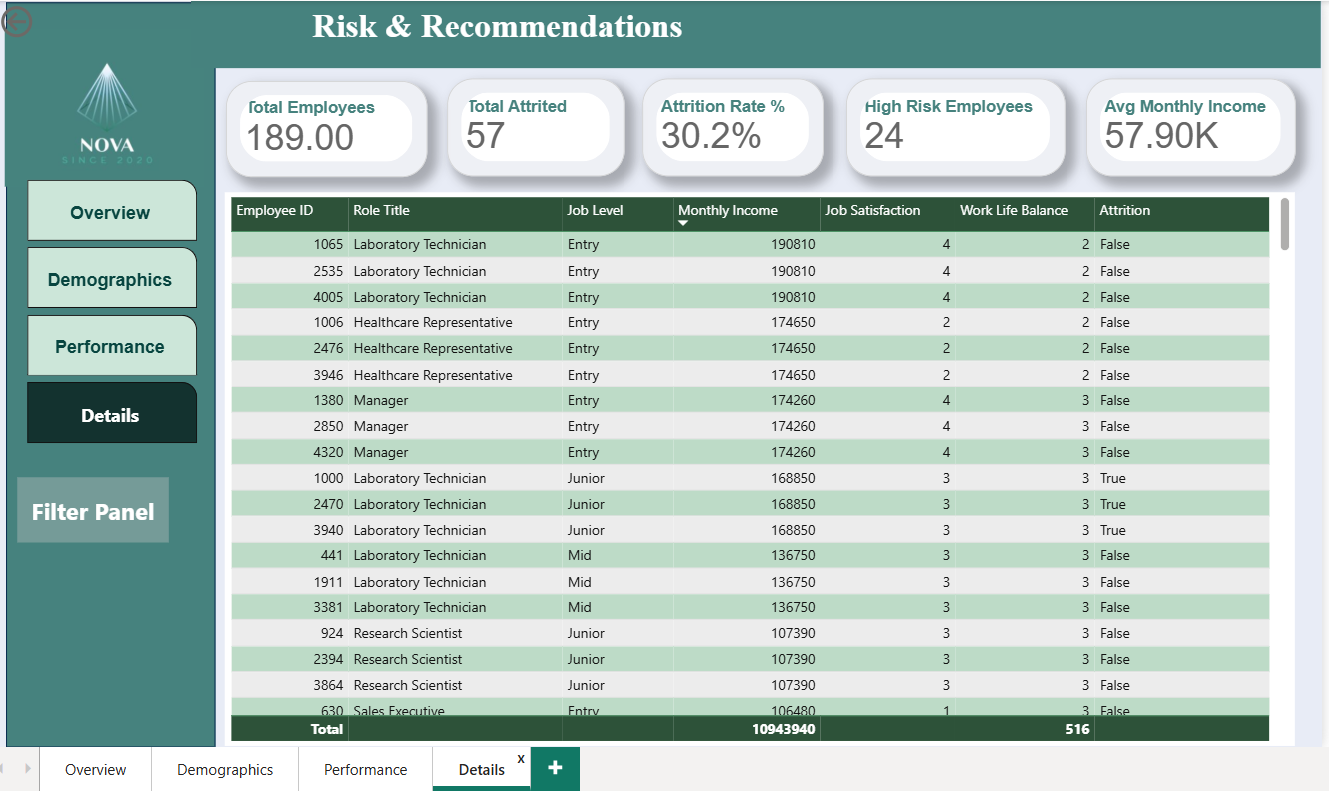

The dashboard page shown, as its layout file describes it:
{"tool":"powerbi","page":{"name":"Details","canvas":[1280,720],"ordinal":3},"visuals":[{"type":"shape","box":[10,0.7,202.2,719.3],"z":0},{"type":"image","box":[3.9,0,202.2,206.1],"z":1000},{"type":"actionButton","box":[0,0,100,40],"z":2000},{"type":"textbox","box":[188.7,-0.4,1090.2,65.1],"z":3000},{"type":"pageNavigator","box":[30,172.7,164,254],"z":5000},{"type":"cardVisual","fields":{"Data":["hr_ibm_attrition dim_employee.Total Employees"]},"box":[221.5,77,194.5,92.4],"z":9000},{"type":"cardVisual","fields":{"Data":["hr_ibm_attrition dim_employee.Total Attrited"]},"box":[435.2,75.1,171.4,94.4],"z":10000},{"type":"cardVisual","fields":{"Data":["hr_ibm_attrition dim_employee.Attrition Rate %"]},"box":[624,75.1,175.2,94.4],"z":11000},{"type":"cardVisual","fields":{"Data":["hr_ibm_attrition dim_employee.High Risk Employees"]},"box":[820.4,75.1,211.8,94.4],"z":12000},{"type":"cardVisual","fields":{"Data":["hr_ibm_attrition dim_employee.Avg Monthly Income"]},"box":[1051.5,75.1,202.2,94.4],"z":13000},{"type":"tableEx","fields":{"Values":["hr_ibm_attrition dim_employee.emp_id","hr_ibm_attrition dim_job_role.role_title","hr_ibm_attrition dim_employee.job_level_label","Sum(hr_ibm_attrition fact_attrition.monthly_income)","hr_ibm_attrition fact_attrition.job_satisfaction","Sum(hr_ibm_attrition fact_attrition.work_life_balance)","hr_ibm_attrition fact_attrition.attrition_flag"]},"box":[221.1,184.7,1032.7,534.5],"z":14000},{"type":"actionButton","title":"Button filter","box":[20.3,459.2,146.3,63],"z":14001}]}

Visuals, with their boxes on the page's 1280x720 design canvas (x1, y1, x2, y2). These are canvas units, not pixel positions in the 1329x791 screenshot, which may show the page scaled, cropped or inside an application window:
shape: left=10, top=1, right=212, bottom=720
image: left=4, top=0, right=206, bottom=206
actionButton: left=0, top=0, right=100, bottom=40
textbox: left=189, top=0, right=1279, bottom=65
pageNavigator: left=30, top=173, right=194, bottom=427
cardVisual - hr_ibm_attrition dim_employee.Total Employees: left=222, top=77, right=416, bottom=169
cardVisual - hr_ibm_attrition dim_employee.Total Attrited: left=435, top=75, right=607, bottom=170
cardVisual - hr_ibm_attrition dim_employee.Attrition Rate %: left=624, top=75, right=799, bottom=170
cardVisual - hr_ibm_attrition dim_employee.High Risk Employees: left=820, top=75, right=1032, bottom=170
cardVisual - hr_ibm_attrition dim_employee.Avg Monthly Income: left=1052, top=75, right=1254, bottom=170
tableEx - hr_ibm_attrition dim_employee.emp_id x hr_ibm_attrition dim_job_role.role_title: left=221, top=185, right=1254, bottom=719
"Button filter" actionButton: left=20, top=459, right=167, bottom=522
